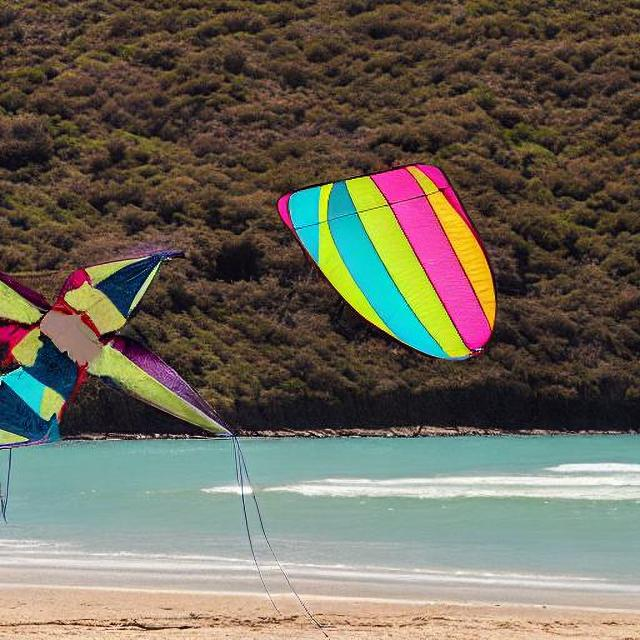floating object: (276, 158, 496, 354), (1, 245, 212, 442)
